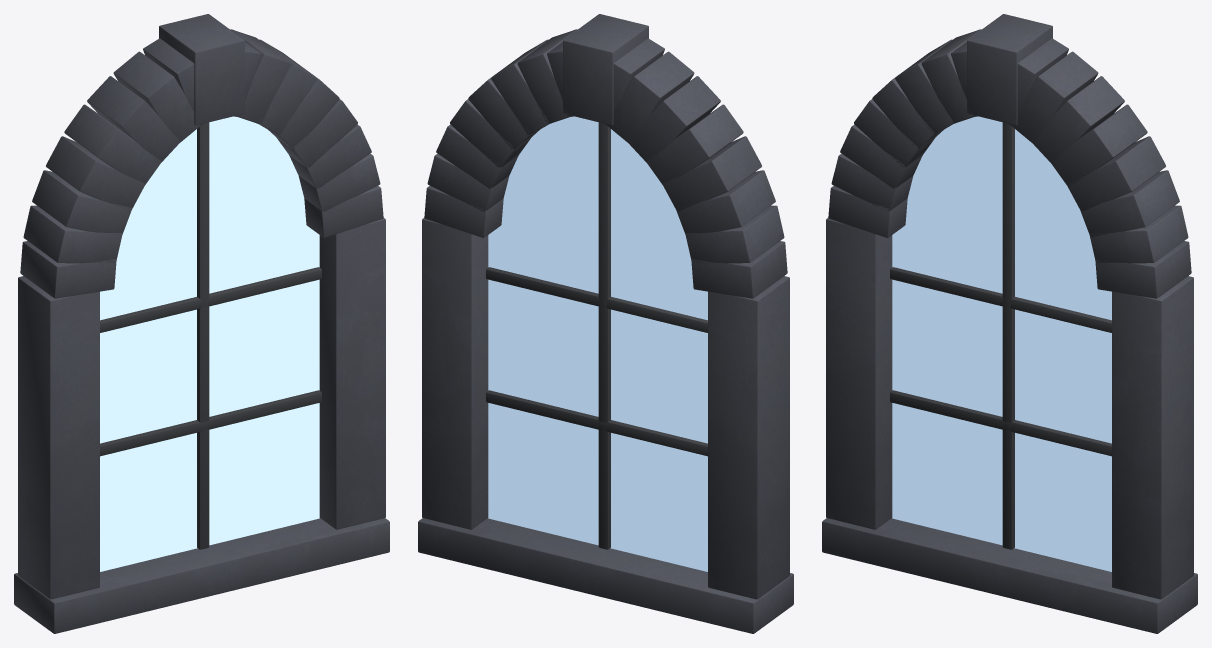
File: gothic_window_frame.glb
The picture shows the model from 3 angles, left to right: view 1: azimuth 30°, elevation 25°; view 2: azimuth 150°, elevation 25°; view 3: azimuth 330°, elevation 25°; orthographic projection.
Visible parts, largest first — view 1: GlassPane, JambL, JambR, Sill, Keystone, MullionV, Voussoir03, Voussoir05, Voussoir02, Voussoir06, Voussoir04, Voussoir01 (+12 smaller); view 2: GlassPane, JambL, JambR, Sill, Keystone, MullionV, Voussoir03, Voussoir05, Voussoir06, Voussoir02, Voussoir04, Voussoir01 (+12 smaller); view 3: GlassPane, JambR, JambL, Sill, Keystone, MullionV, Voussoir12, Voussoir10, Voussoir13, Voussoir09, Voussoir11, Voussoir14 (+12 smaller).
Part boxes in pixels (box(x1,y1,x2,y2)): GlassPane: box(100, 116, 319, 571); JambL: box(18, 276, 99, 599); JambR: box(319, 218, 385, 529); Sill: box(14, 518, 389, 633); Keystone: box(159, 14, 244, 125); MullionV: box(197, 122, 209, 549); Voussoir03: box(46, 136, 144, 211); Voussoir05: box(87, 76, 180, 163); Voussoir02: box(32, 170, 131, 234); Voussoir06: box(113, 51, 200, 143); Voussoir04: box(64, 104, 161, 185); Voussoir01: box(23, 205, 122, 263); GlassPane: box(488, 116, 707, 571); JambL: box(708, 276, 789, 599); JambR: box(422, 218, 488, 529); Sill: box(418, 518, 793, 633); Keystone: box(563, 14, 648, 125); MullionV: box(598, 122, 610, 549); Voussoir03: box(663, 136, 761, 211); Voussoir05: box(627, 76, 720, 163); Voussoir06: box(607, 51, 694, 142); Voussoir02: box(676, 170, 775, 236); Voussoir04: box(646, 104, 743, 185); Voussoir01: box(685, 205, 784, 263); GlassPane: box(892, 116, 1111, 571); JambR: box(1112, 276, 1193, 599); JambL: box(826, 218, 892, 529); Sill: box(822, 518, 1197, 633); Keystone: box(967, 14, 1052, 125); MullionV: box(1002, 122, 1014, 549); Voussoir12: box(1067, 136, 1165, 211); Voussoir10: box(1032, 76, 1124, 164); Voussoir13: box(1080, 170, 1179, 237); Voussoir09: box(1011, 51, 1098, 143); Voussoir11: box(1050, 104, 1147, 186); Voussoir14: box(1089, 205, 1188, 263).
Size of the model in its own units: 2 by 3.1 by 0.42.
3 materials, 1 textured.
